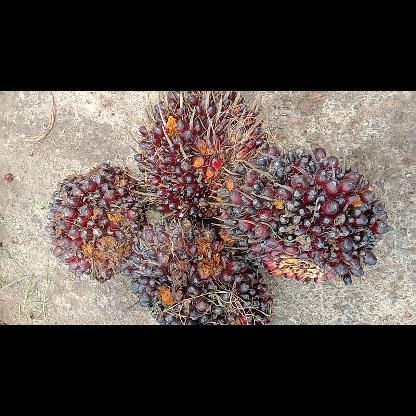Kurang masak: (214, 141, 394, 289), (130, 91, 272, 221), (120, 218, 276, 324), (42, 162, 148, 282)
